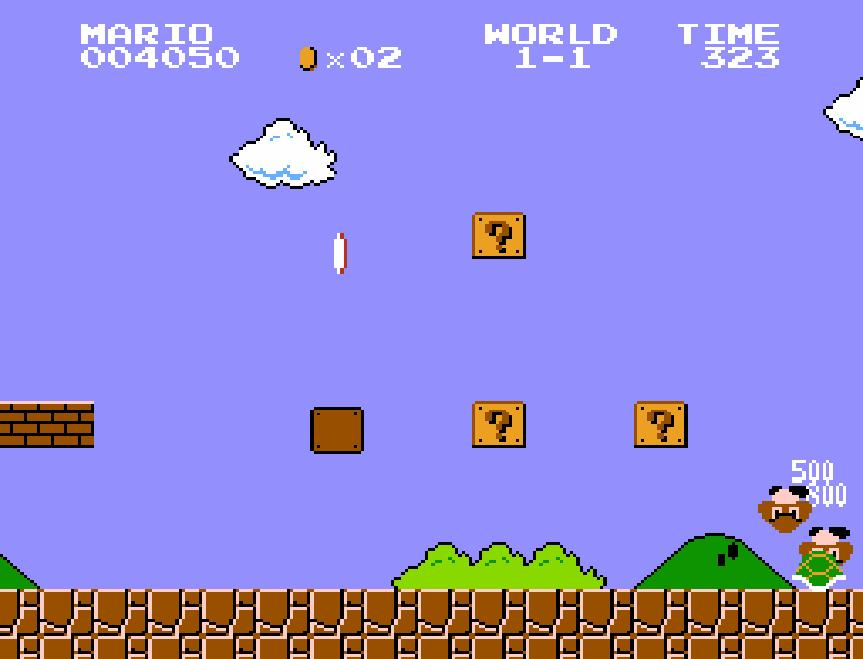little_mario: (379, 550, 437, 600)
